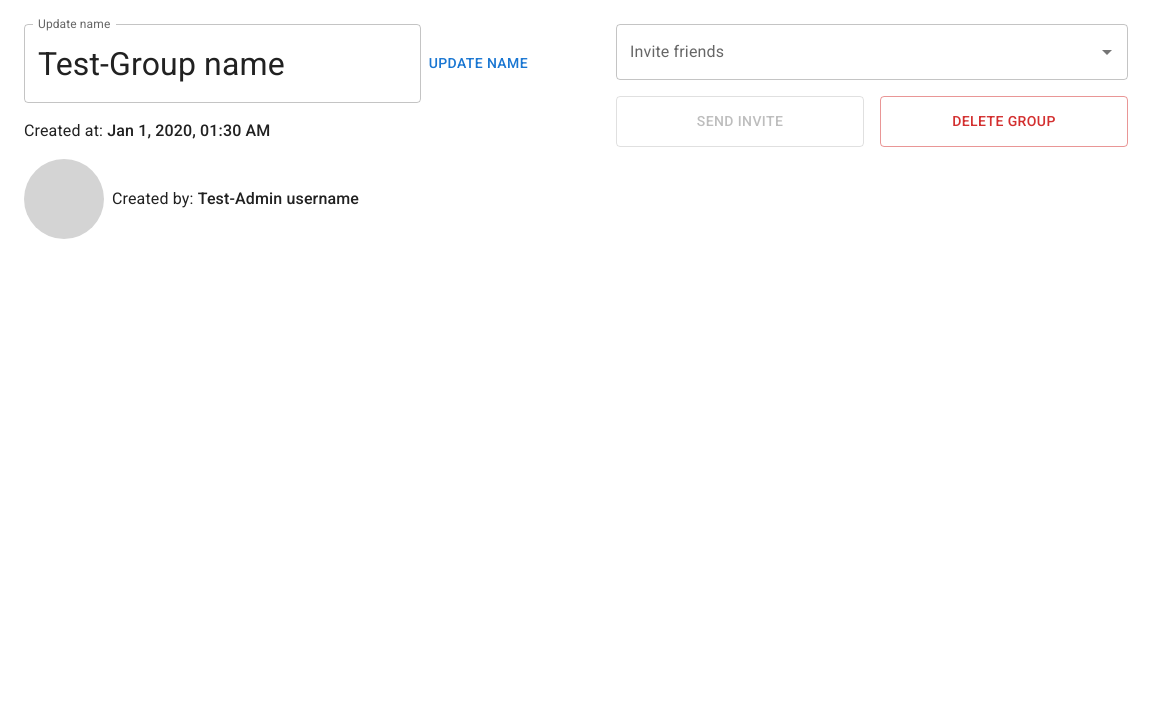
group-details-header component › updating group name › should hide modal when cancel button is clicked
Click the button "Update Name" at (478, 64), box [421, 24, 536, 103]
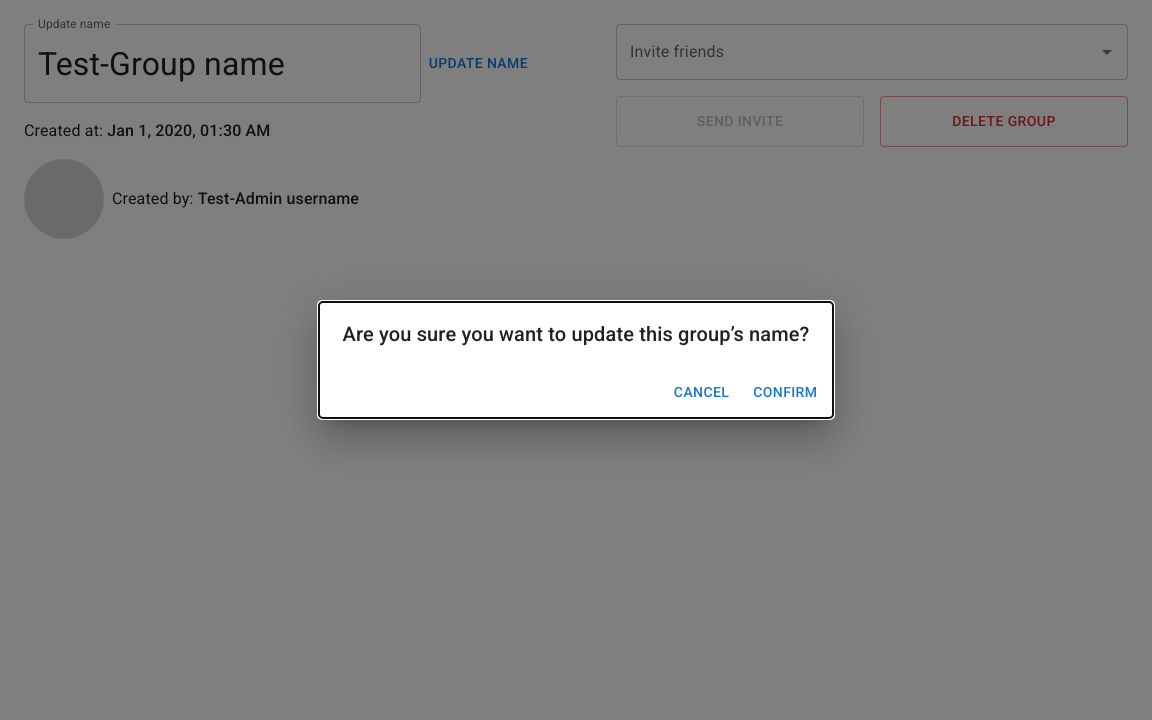
Click the button "Cancel" at (702, 392), box [666, 374, 737, 410]
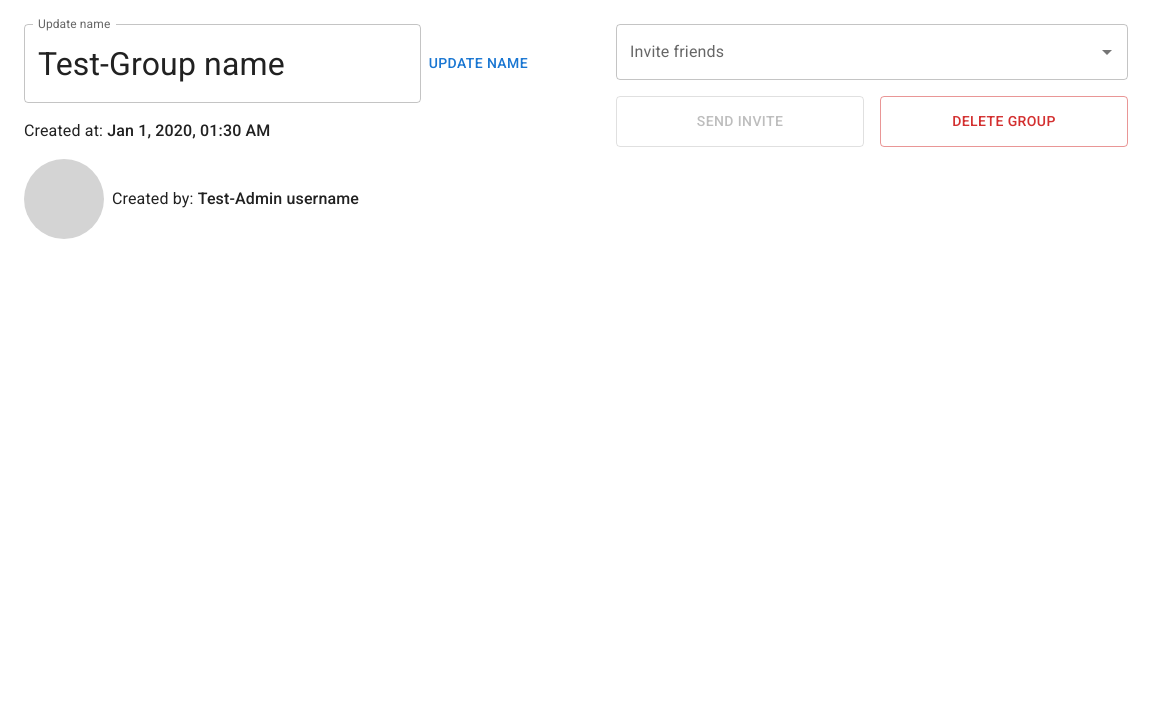
Check: the dialog is gone
